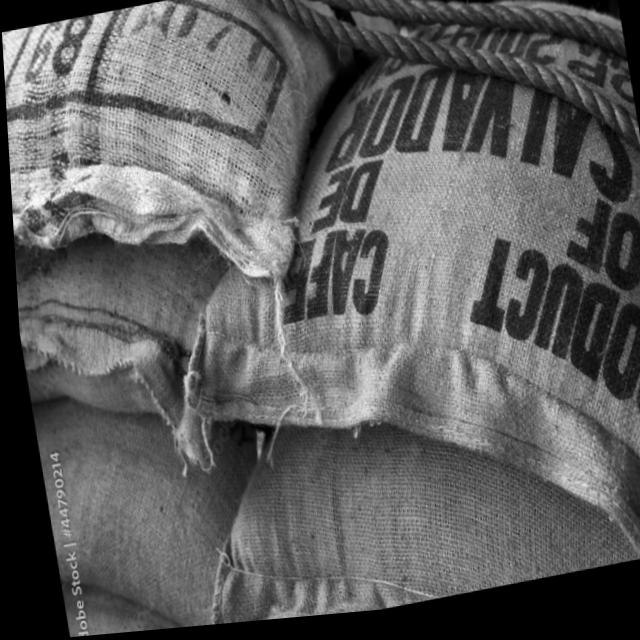sack: (125, 0, 640, 631), (173, 365, 640, 629), (0, 0, 358, 330), (26, 365, 279, 639), (11, 213, 250, 496)
